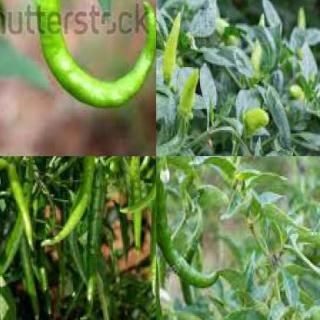green_chilli: (34, 0, 156, 114), (156, 156, 226, 283), (156, 212, 207, 320), (40, 156, 96, 248), (6, 164, 36, 254), (84, 172, 109, 268), (117, 156, 155, 215), (13, 239, 41, 319), (158, 11, 185, 87), (73, 277, 98, 319), (132, 158, 142, 255), (243, 107, 272, 135), (150, 174, 156, 298)
